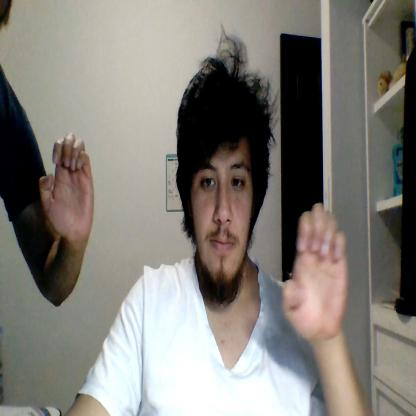E: (282, 201, 347, 341), (40, 134, 95, 243)
